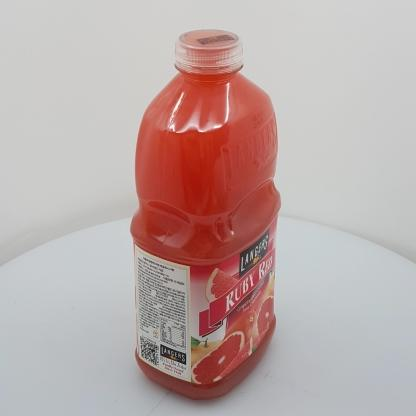---------------: (130, 29, 281, 400)
